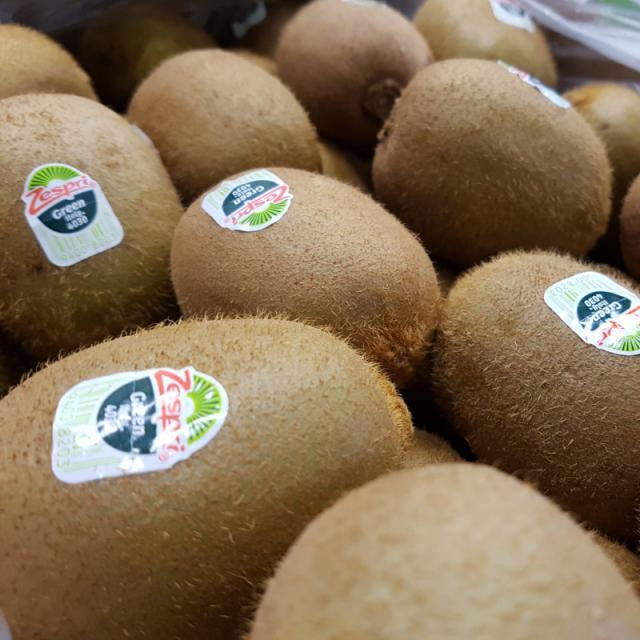kiwi: (1, 309, 414, 640), (430, 249, 640, 547), (172, 165, 441, 379), (1, 94, 190, 349), (374, 58, 612, 257), (127, 47, 322, 193)
